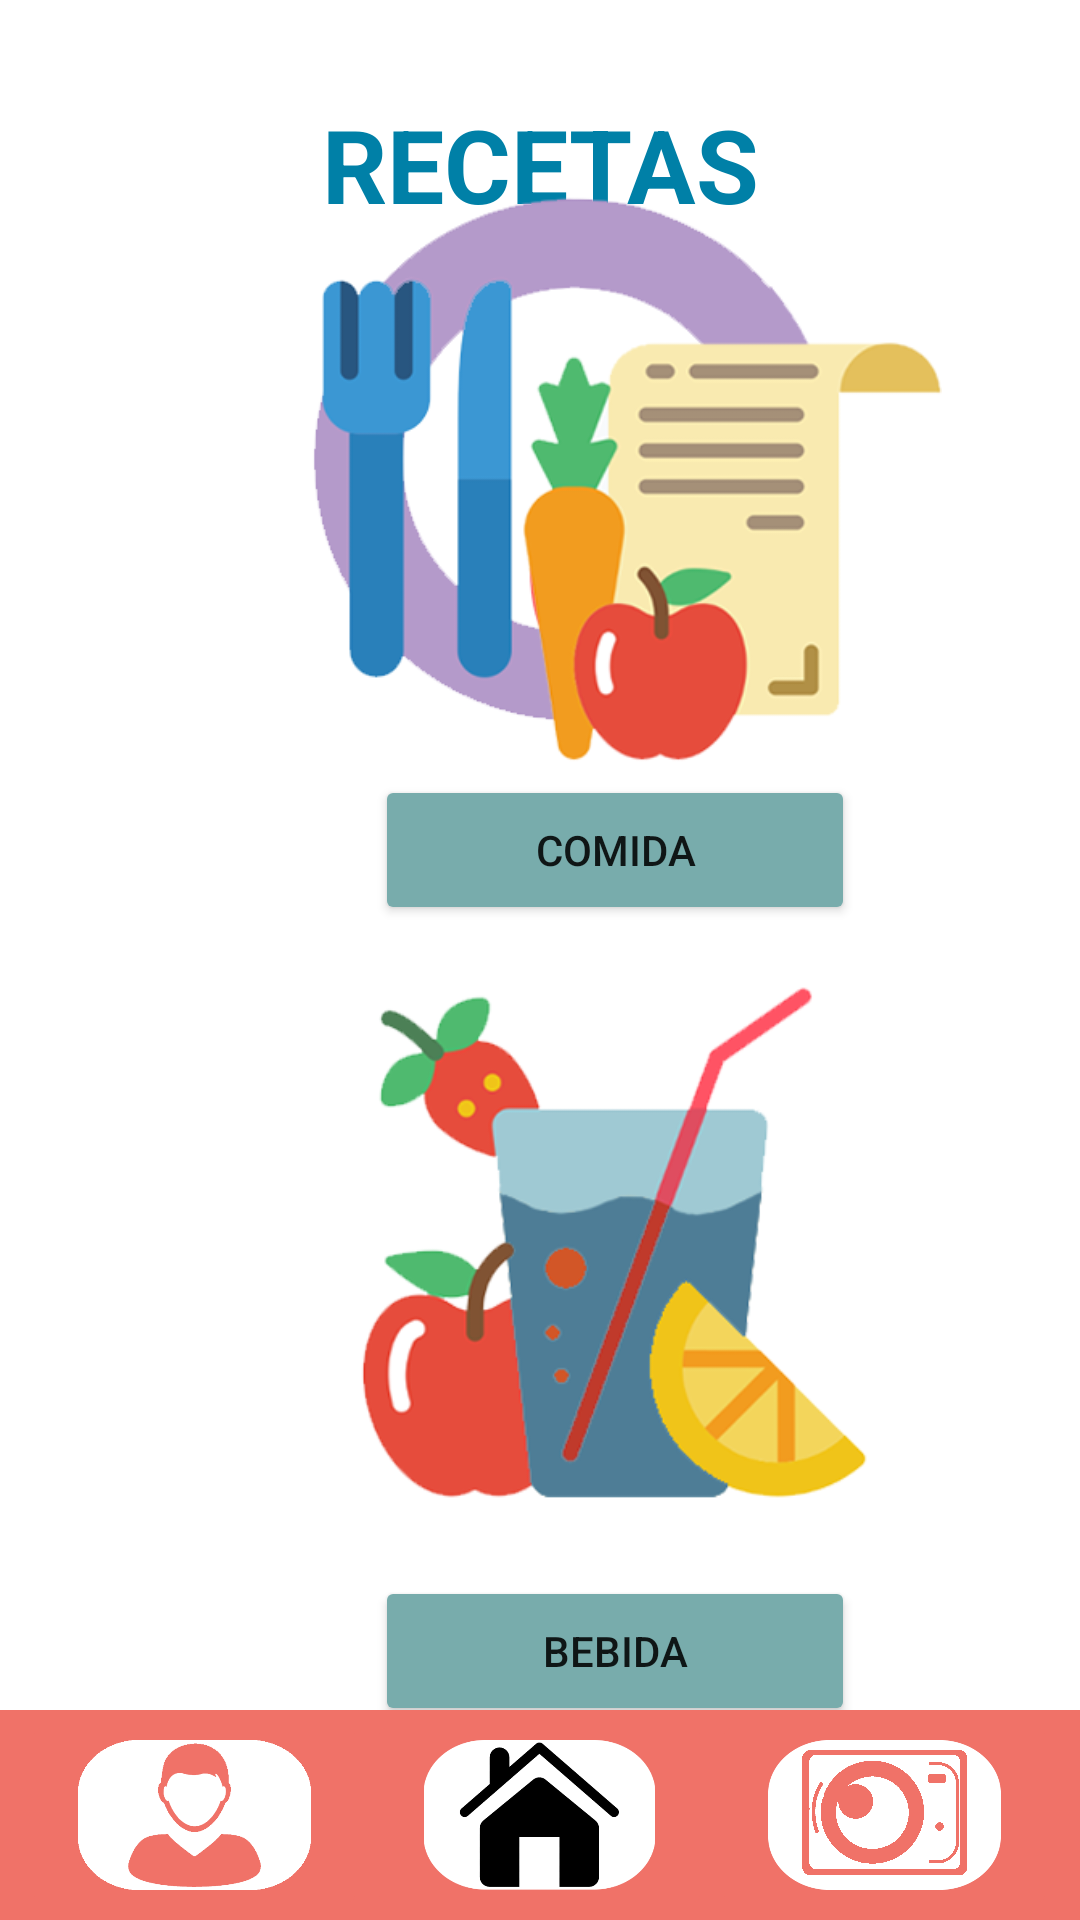

Where icons sit on this 1080px×1920px app screen, as {"x1": x1, "y1": y1, "x2": x2, "y2": y2}:
cam off: {"x1": 768, "y1": 1740, "x2": 1001, "y2": 1890}
casa off: {"x1": 424, "y1": 1740, "x2": 655, "y2": 1890}
user on: {"x1": 78, "y1": 1740, "x2": 311, "y2": 1890}
